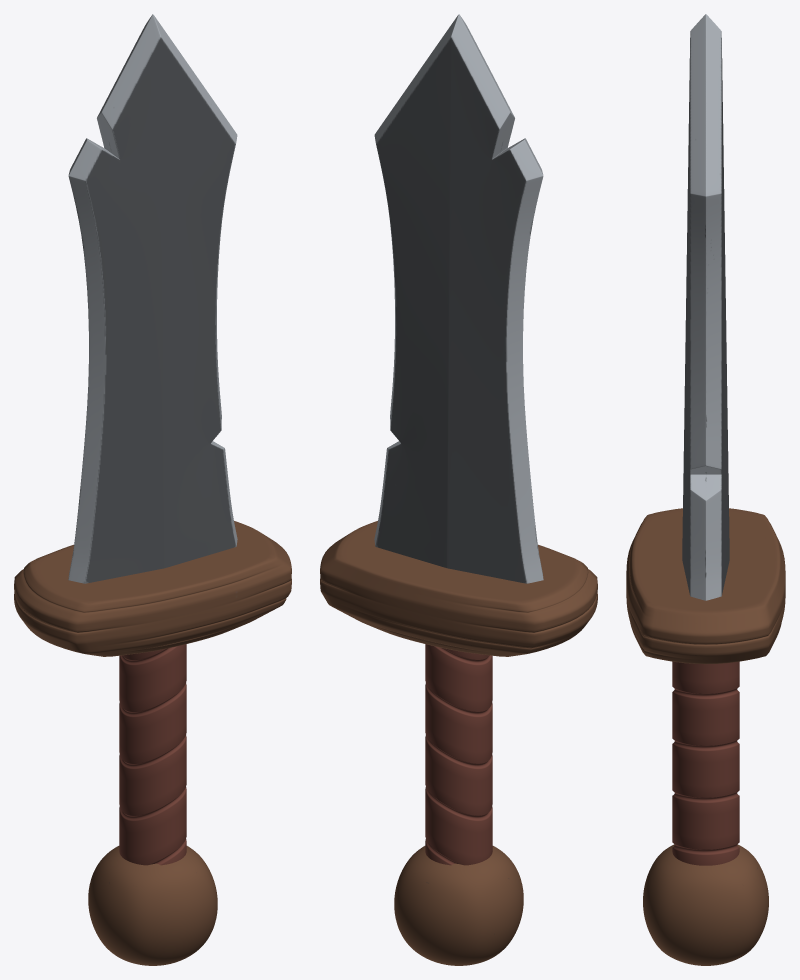
The model's file is Nexo_Sword_1.fbx.
The picture shows the model from 3 angles, left to right: view 1: azimuth 30°, elevation 25°; view 2: azimuth 150°, elevation 25°; view 3: azimuth 270°, elevation 25°; orthographic projection.
Visible parts, largest first — view 1: Blade_1, Cover, Grip, Sphere; view 2: Blade_1, Cover, Grip, Sphere; view 3: Blade_1, Cover, Grip, Sphere.
Boxes of the visible parts, x1,y1,x2,y2 form: Blade_1: (68, 14, 237, 583); Cover: (14, 521, 291, 656); Grip: (119, 644, 186, 865); Sphere: (88, 846, 217, 965); Blade_1: (374, 14, 543, 583); Cover: (320, 521, 597, 656); Grip: (425, 644, 492, 865); Sphere: (394, 846, 523, 965); Blade_1: (682, 14, 729, 600); Cover: (626, 508, 785, 664); Grip: (672, 661, 739, 865); Sphere: (643, 844, 768, 965).
Size of the model in its own units: 2.95 by 10.66 by 1.63.
